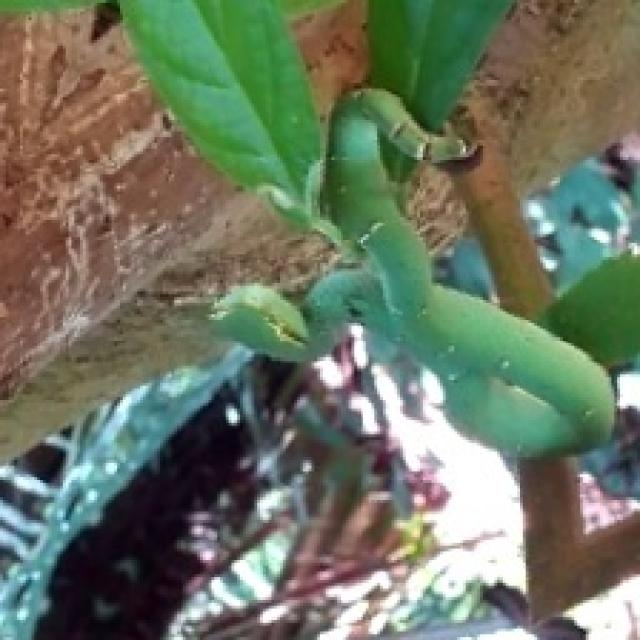north ph temple pitviper: (216, 91, 608, 454)
